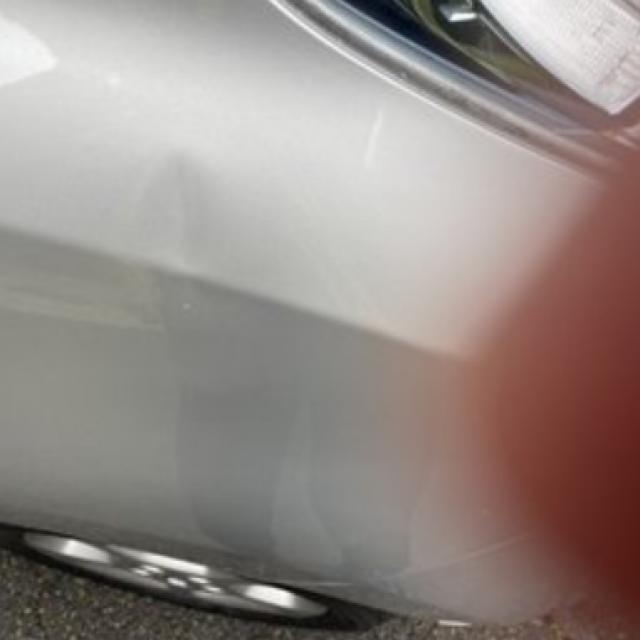dents: (126, 143, 268, 279)
